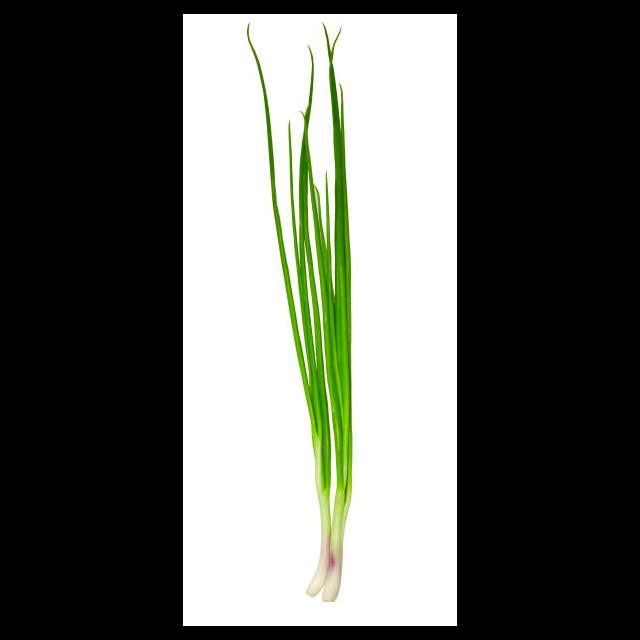green_onion: (231, 27, 419, 624)
